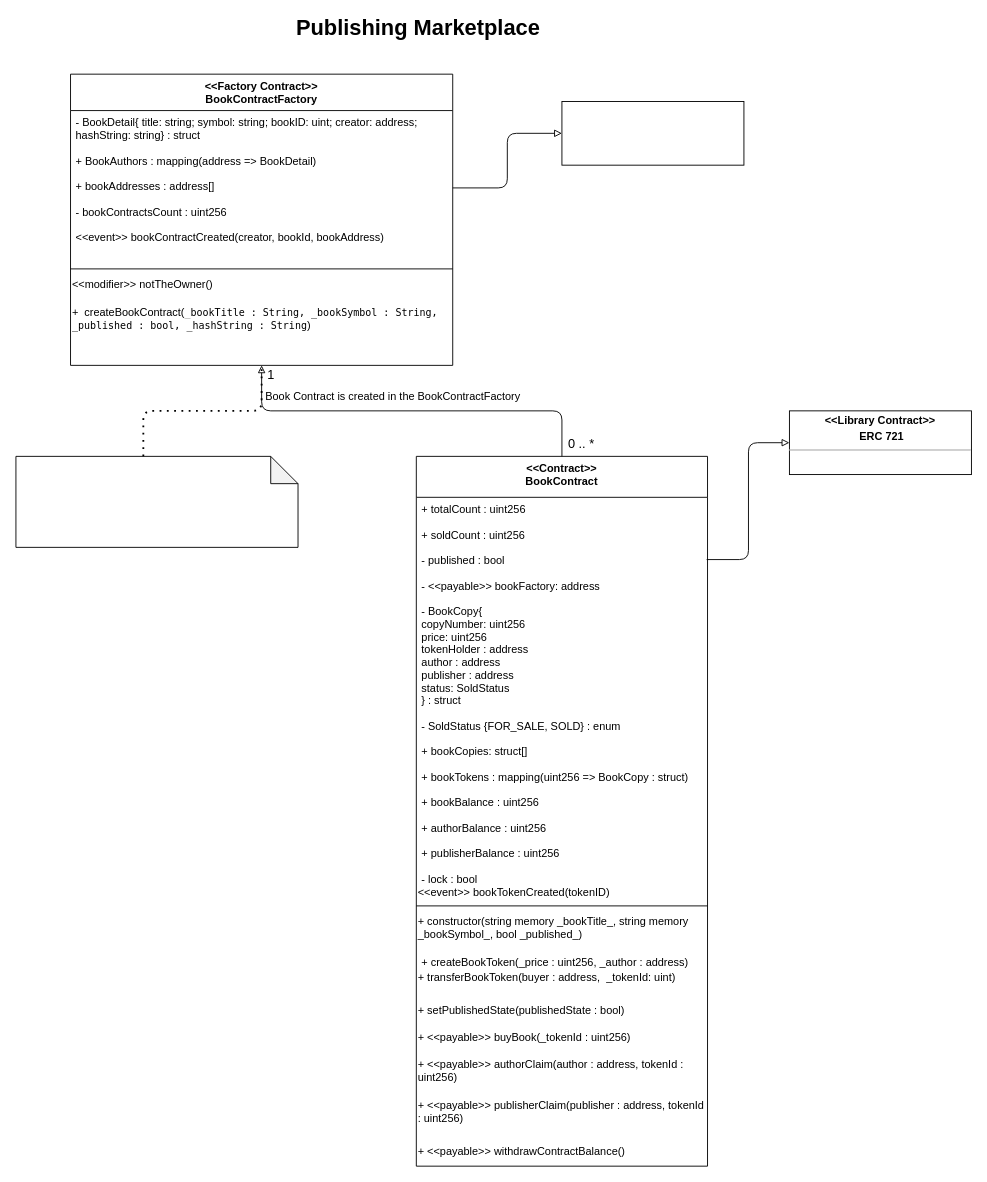
Some shapes in this 987 by 1182 pixel diagram are drawn without their labels. The shapes that lost their labels are listed below. From the top down, each one's centre as x and y in pixels, then its label:
At (652,133): "<<Library Contract>> Ownable".
At (156,501): "address (new BookContract(_bookTitle, _bookSymbol, _published))".
